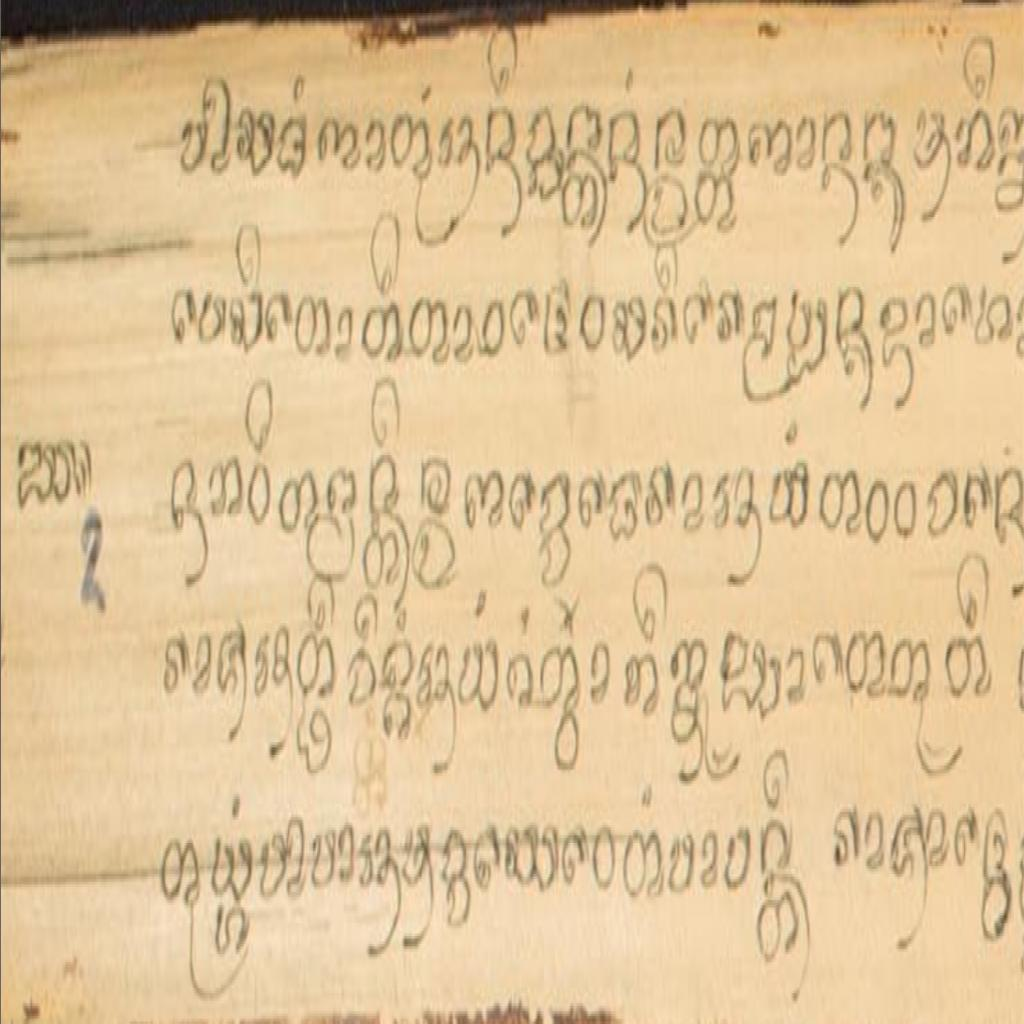LN016: (17, 437, 56, 515)
